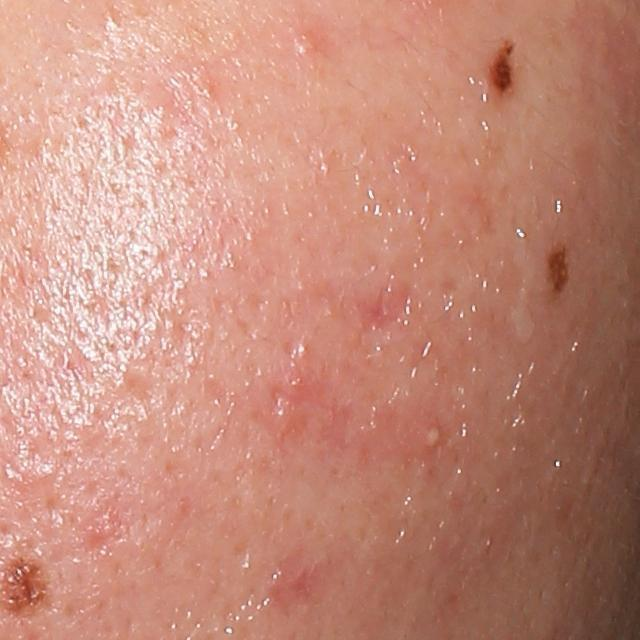atrophic_scar: (352, 284, 408, 334)
nevus: (485, 36, 521, 99), (545, 242, 577, 296)
papule: (291, 31, 319, 57)
pustule: (417, 418, 449, 451)
